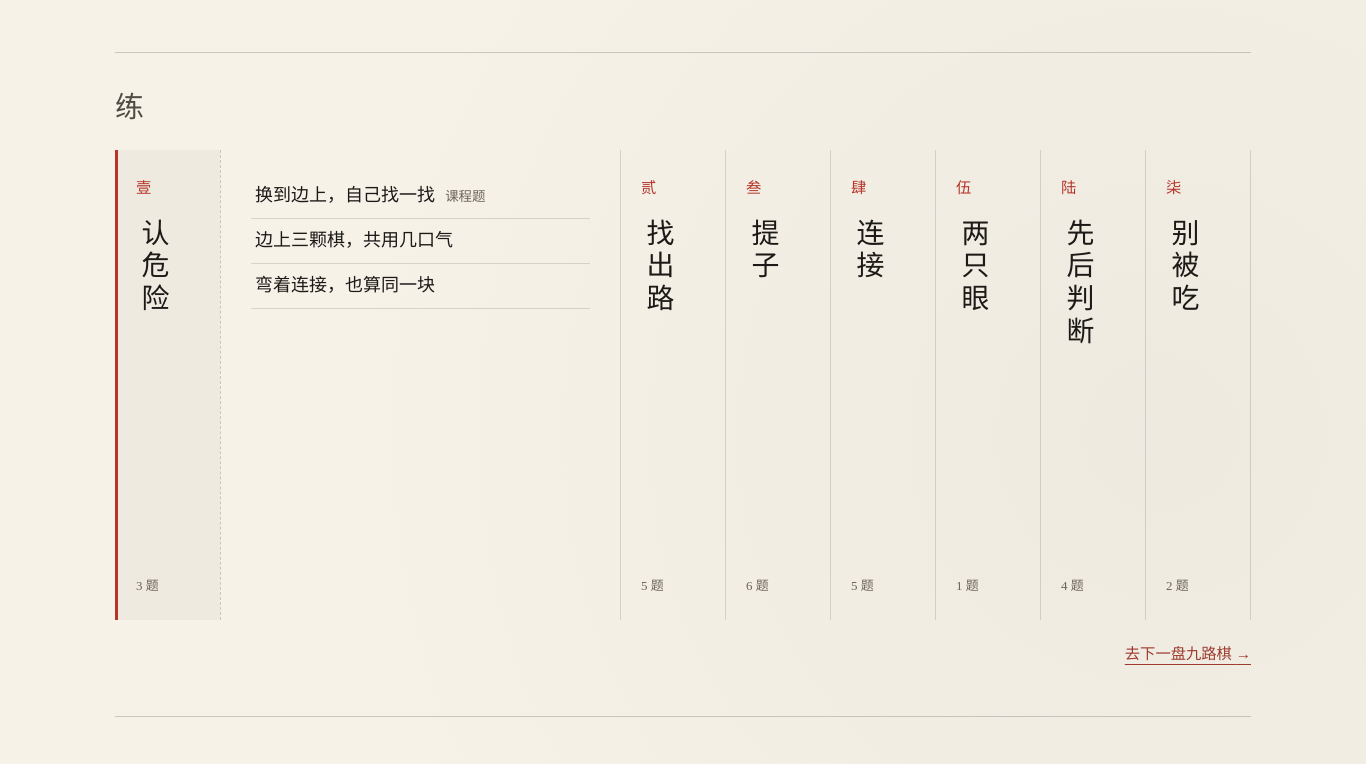
Test: practice hub › shows both home catalogs and opens each numbered practice group independently
Earlier steps of the test are not shown.
Later steps or results of the test are not shown.
(page scrolled)
Click the button "壹 认危险 3 题" at (168, 385), box [116,150,220,620]
Click the button "贰 找出路 5 题" at (673, 385), box [621,150,725,620]
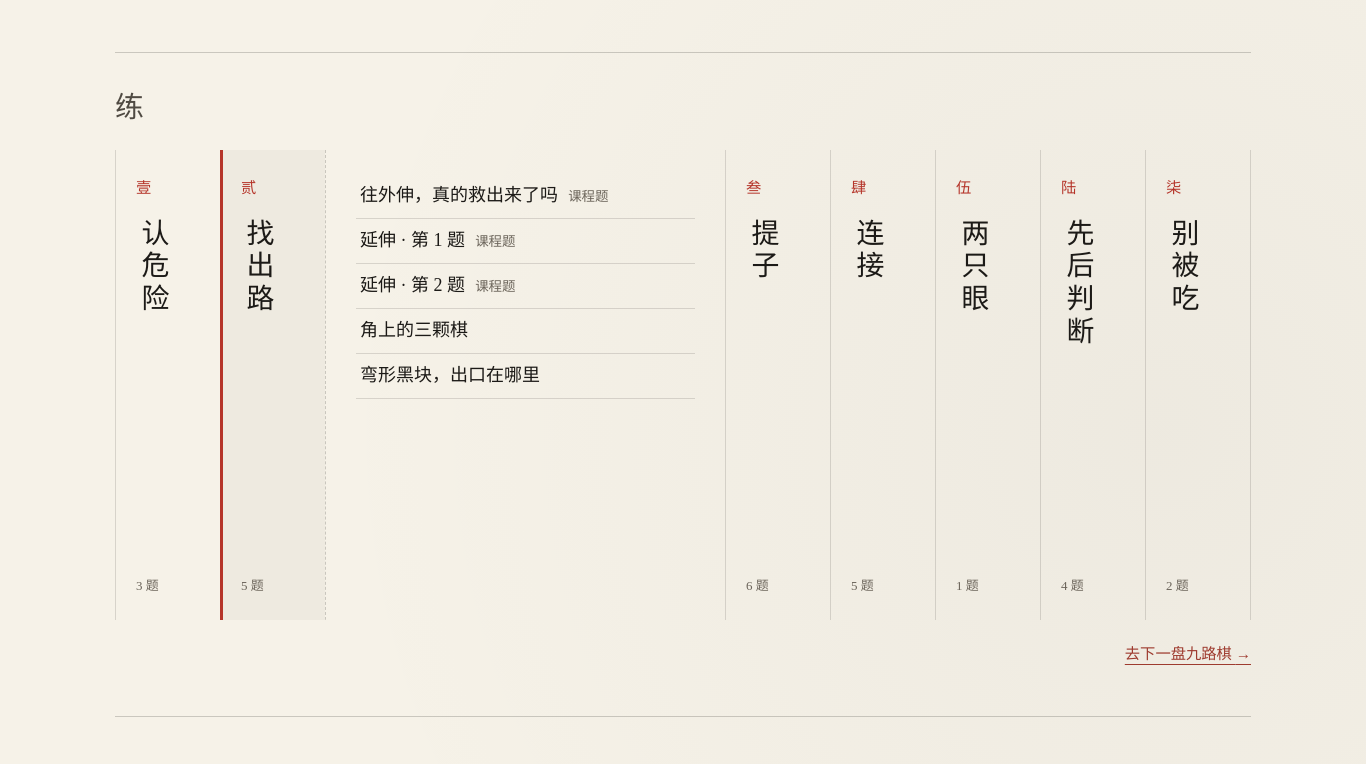
Click the button "叁 提子 6 题" at (778, 385), box [726,150,830,620]
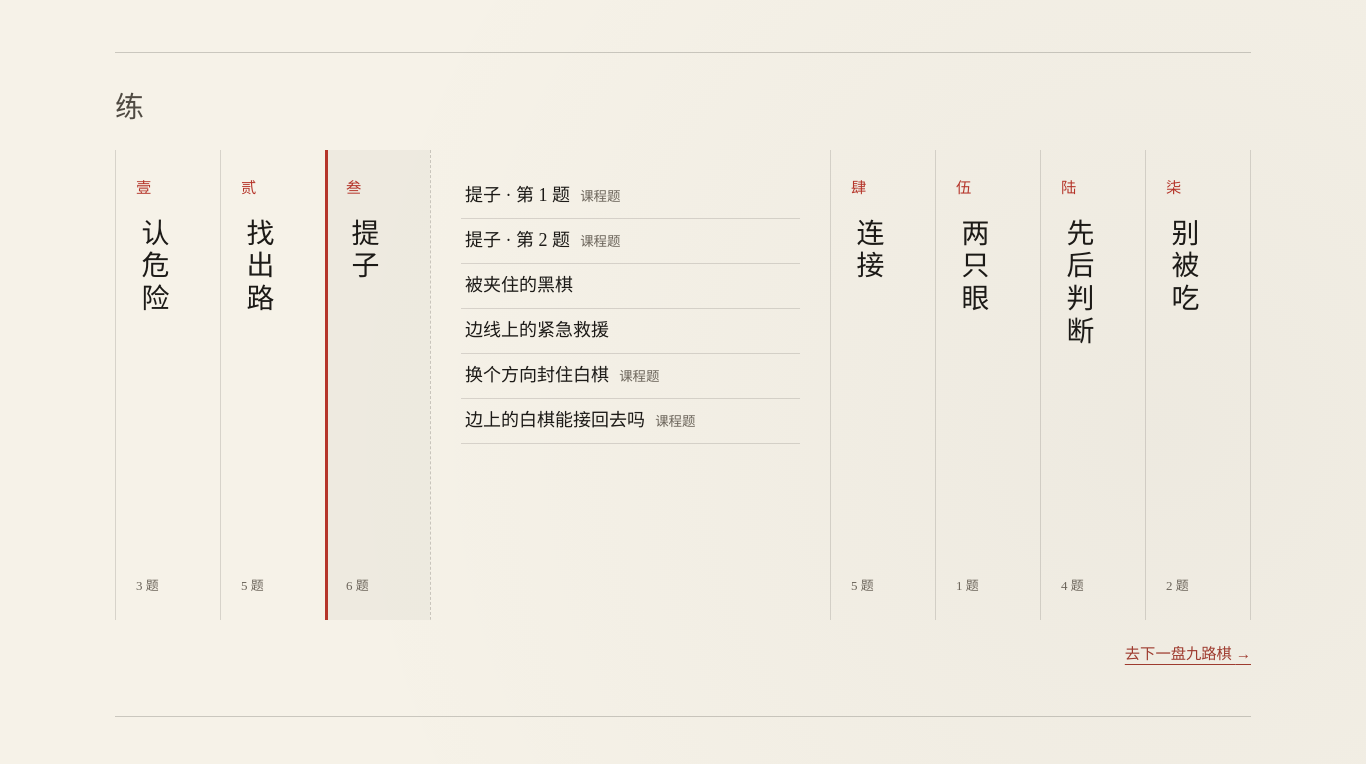
expect the text "肆" is shown: met, box [851,174,866,202]
Click the button with aria-label "第肆卷：连接" at (883, 385), box [831,150,935,620]
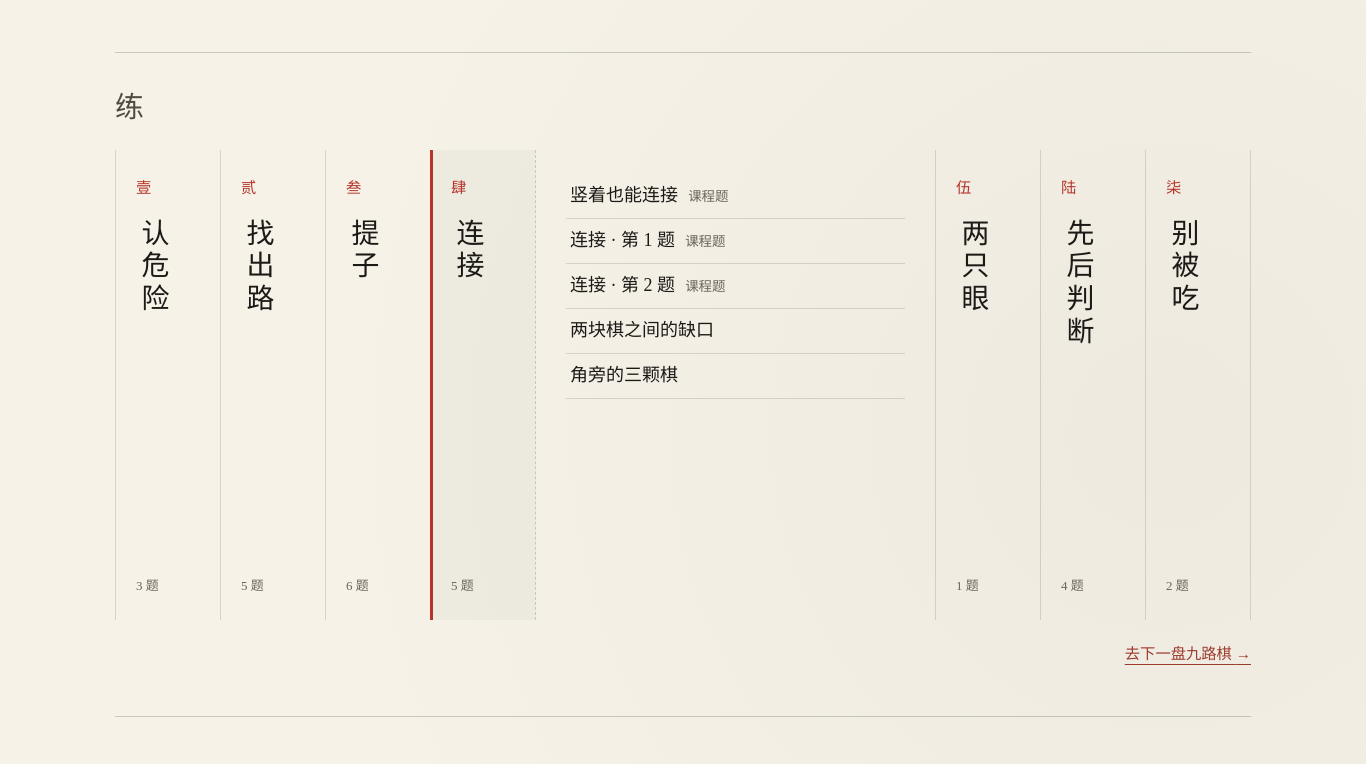
Click the button "伍 两只眼 1 题" at (988, 385), box [936,150,1040,620]
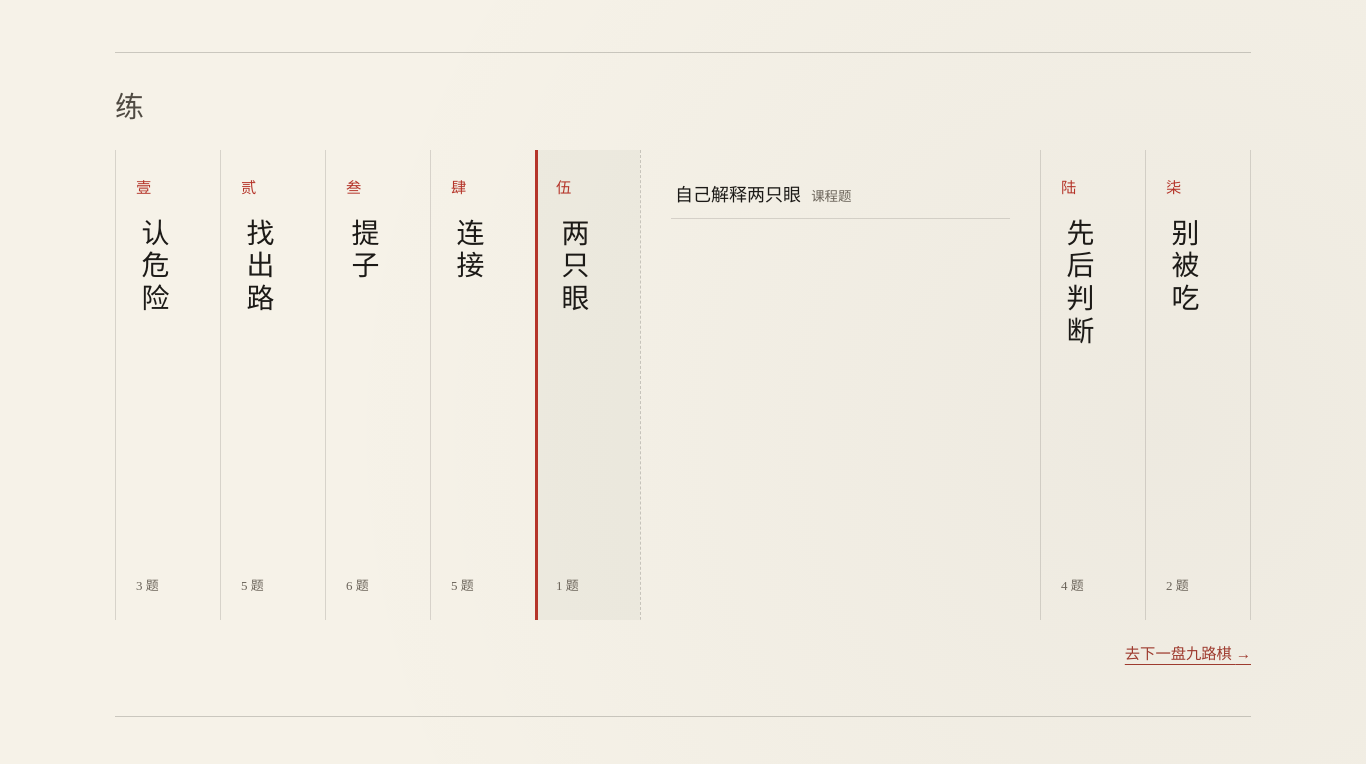
Click the button "陆 先后判断 4 题" at (1093, 385), box [1041,150,1145,620]
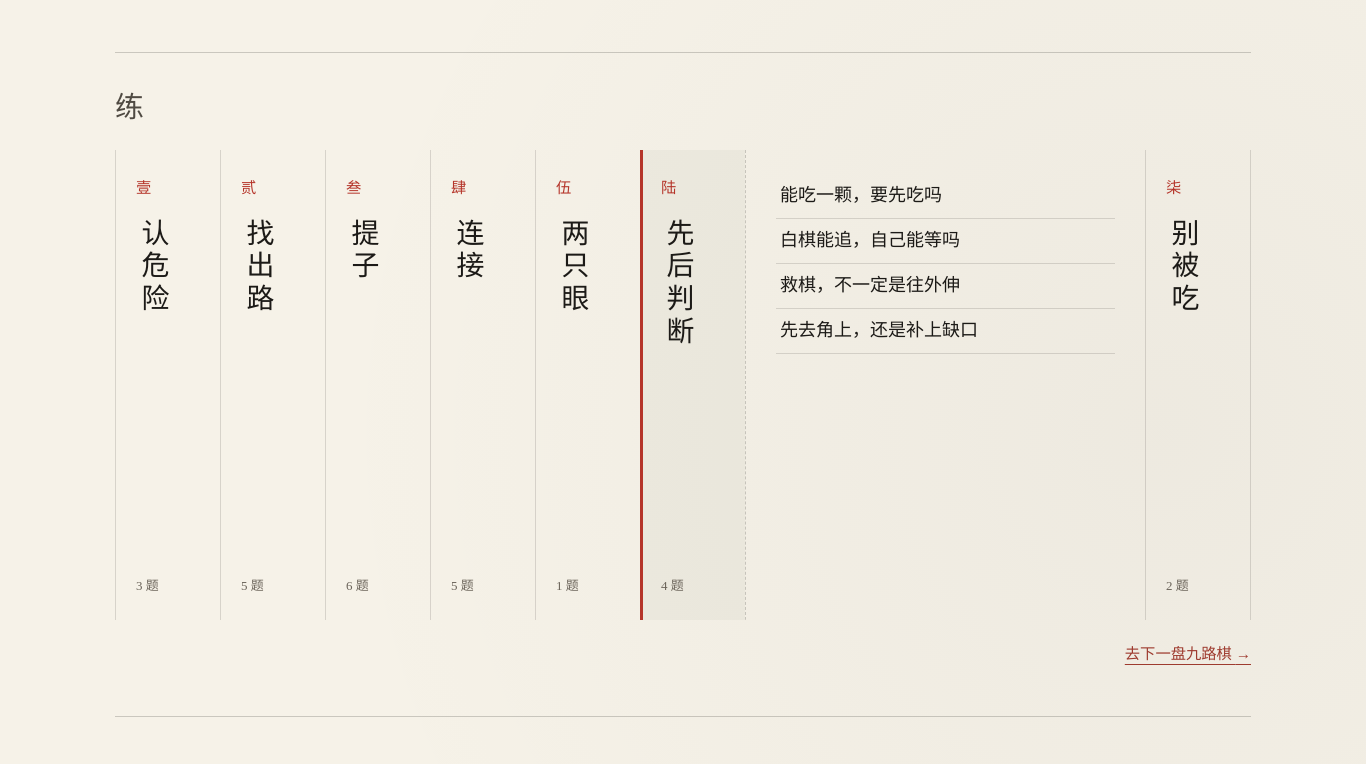
expect the text "柒" is shown: met, box [1166,174,1181,202]
Click the button with aria-label "第柒卷：别被吃" at (1198, 385), box [1146,150,1250,620]
(page scrolled)
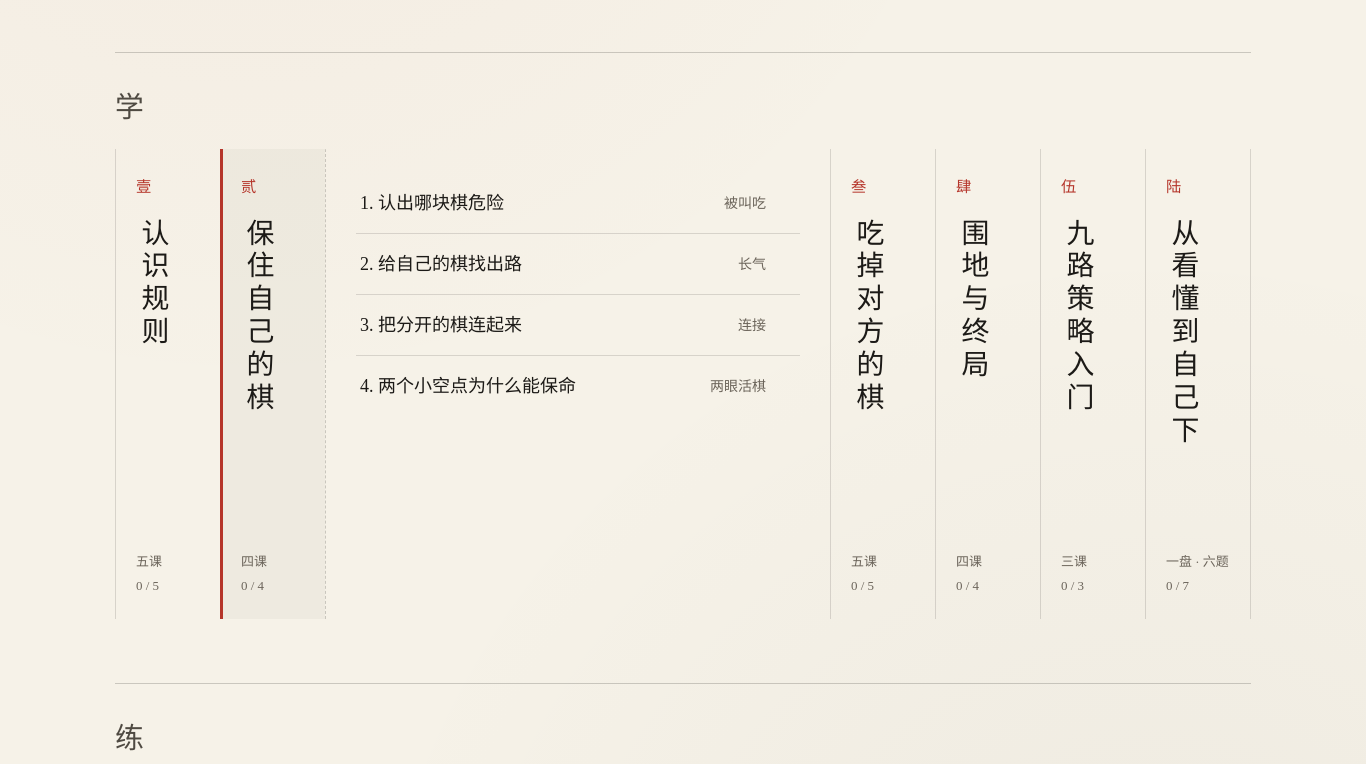
expect the element named "保住自己的棋" is shown: met, box [325,149,830,619]
